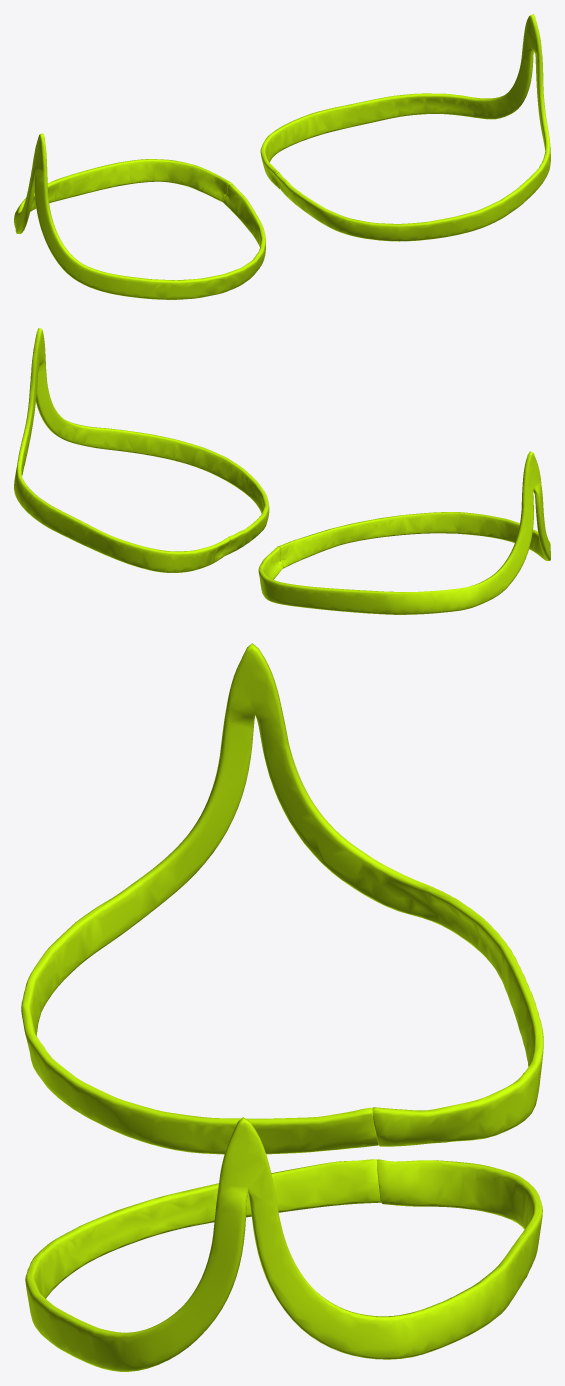
Rendered from stitching-bottom_curve.glb.
3 renders of one model, top to bottom at view 1: azimuth 30°, elevation 25°; view 2: azimuth 150°, elevation 25°; view 3: azimuth 270°, elevation 25°, orthographic. The views are drawn at different scales.
Parts seen in each view (by area): view 1: stitching-bottom_curve.001; view 2: stitching-bottom_curve.001; view 3: stitching-bottom_curve.001.
Part boxes in pixels (x1=…): stitching-bottom_curve.001: x1=14, y1=14, x2=550, y2=299; stitching-bottom_curve.001: x1=14, y1=328, x2=550, y2=614; stitching-bottom_curve.001: x1=21, y1=643, x2=543, y2=1371.
Bounding box in the file's own units: 2.15 × 0.6368 × 0.9635.
